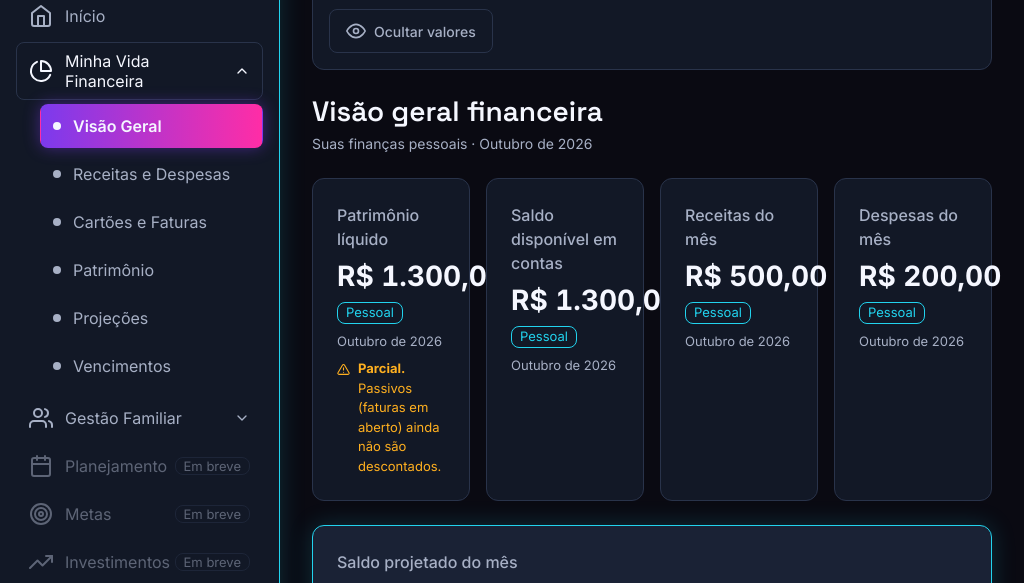
Test: DASH-001: visao geral financeira › ocultar valores mascara cards, tabela e categorias
expect the element "Saldo disponível em contas" is shown: met, box [486, 178, 644, 501]
Click the button "Ocultar valores" at (411, 31), box [329, 9, 493, 53]
(page scrolled)
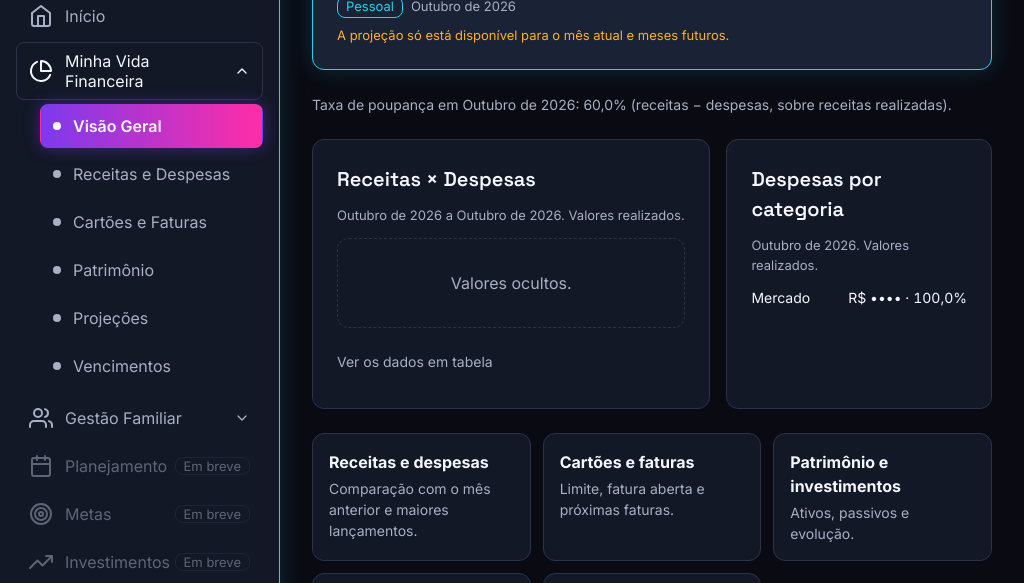
expect the text "1.300,00" is gone: met
expect the text "200,00" is gone: met
expect the text "500,00" is gone: met
